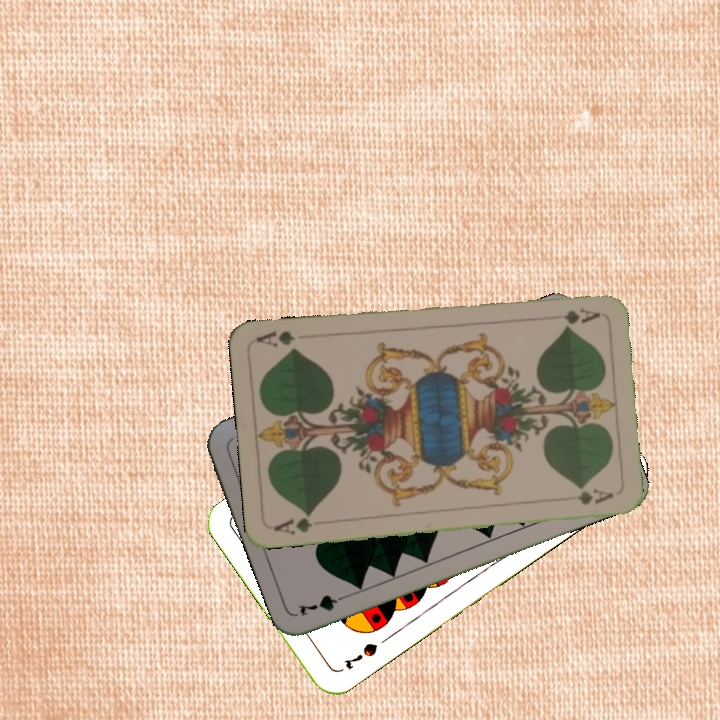G7: (294, 589, 353, 619)
GA: (270, 509, 315, 538), (560, 304, 602, 327)
S7: (340, 638, 380, 673)
